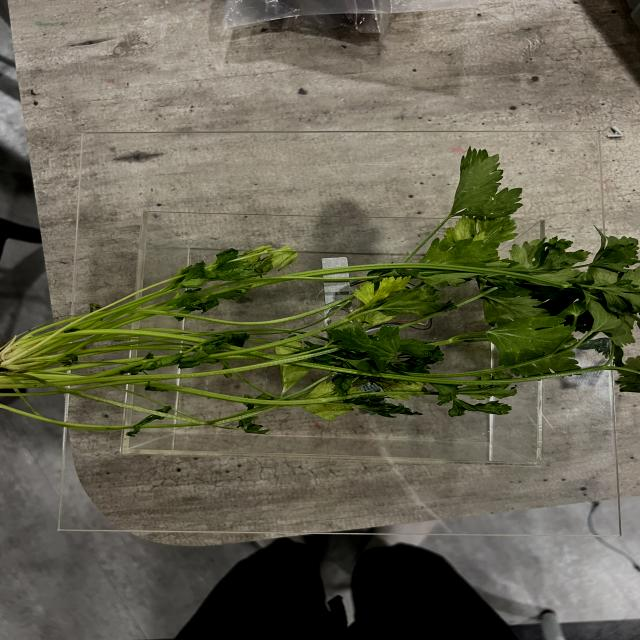chinese celery: (0, 148, 640, 440)
